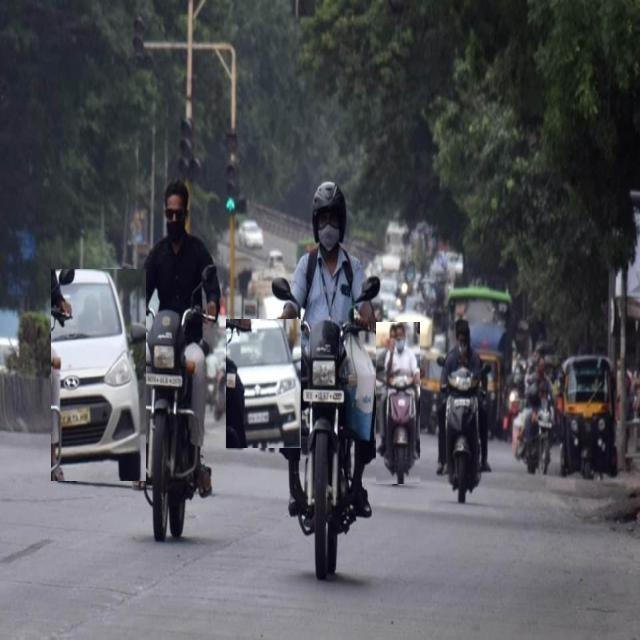autorickshaw: (561, 356, 618, 478)
car: (51, 269, 146, 481), (226, 320, 301, 448)
motorcycle: (272, 182, 380, 580), (125, 180, 220, 536), (436, 318, 490, 502), (376, 323, 420, 484)
